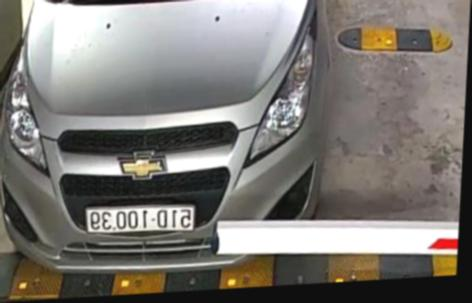License_Plate: (83, 193, 203, 238)
